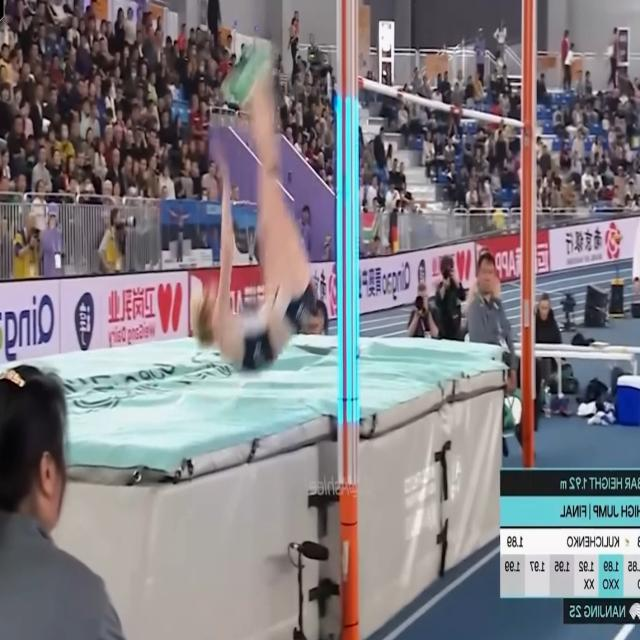land: (194, 42, 313, 373)
